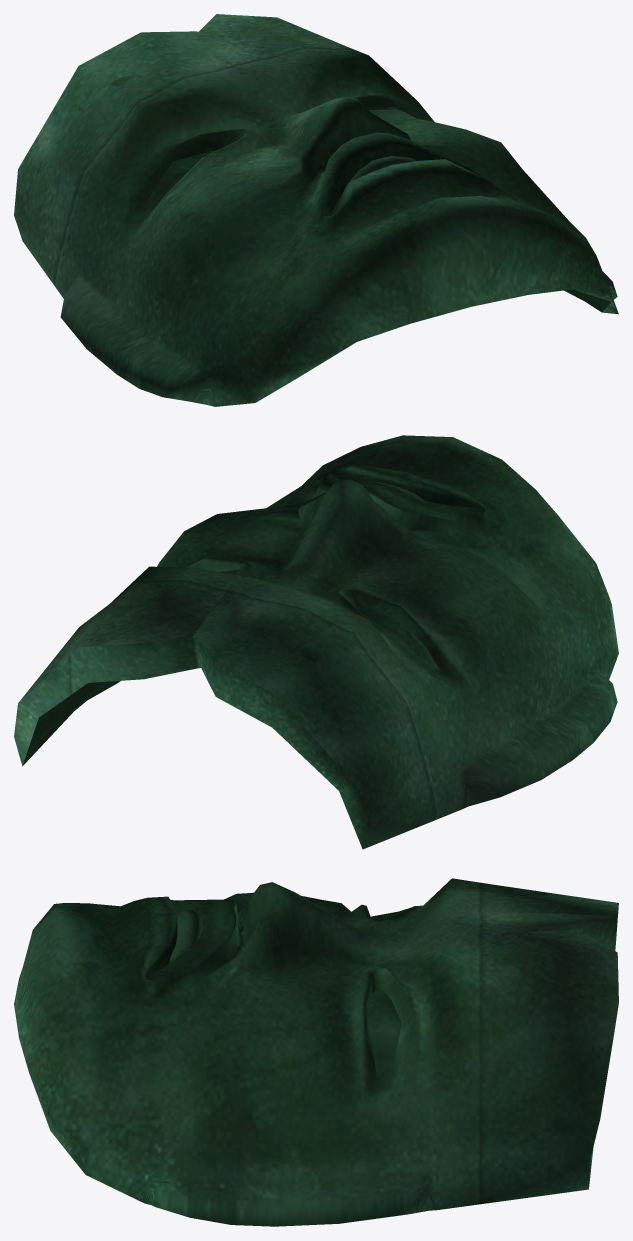
Rendered from Mask.fbx.
The picture shows the model from 3 angles, top to bottom: view 1: azimuth 30°, elevation 25°; view 2: azimuth 150°, elevation 25°; view 3: azimuth 270°, elevation 25°; orthographic projection. The views are drawn at different scales.
Parts seen in each view (by area): view 1: object1; view 2: object1; view 3: object1.
Part boxes in pixels (x1,y1,x2,y2): object1: (14,14,618,406); object1: (14,435,618,849); object1: (14,878,618,1226).
Size of the model in its own units: 21.09 by 10.16 by 23.54.
Materials: 1 (1 with a texture image).
